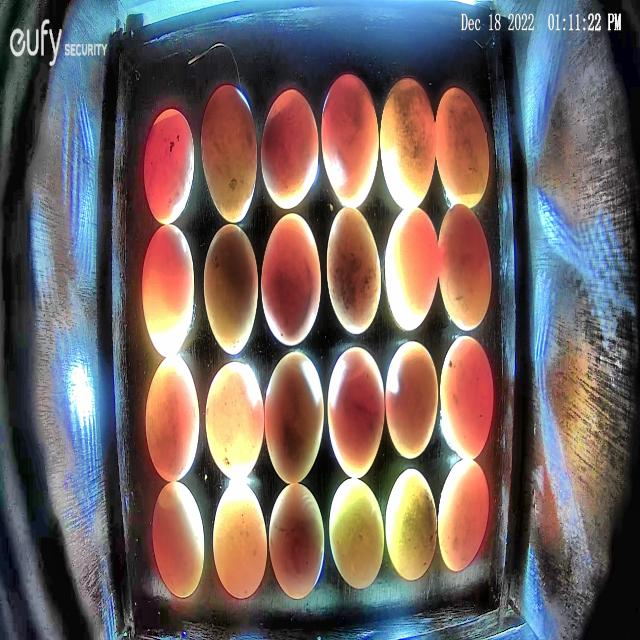DE: (261, 210, 321, 346), (200, 84, 258, 223), (320, 74, 380, 208), (264, 351, 324, 484), (326, 346, 384, 479), (380, 76, 436, 210), (141, 224, 195, 358), (325, 206, 381, 334), (204, 222, 258, 354), (438, 203, 493, 332), (205, 362, 264, 481), (261, 88, 318, 211), (145, 354, 199, 482), (269, 481, 325, 601), (436, 86, 490, 210), (440, 334, 493, 460), (386, 206, 438, 330), (212, 483, 267, 599), (385, 340, 438, 460), (329, 479, 385, 591), (152, 481, 205, 599), (143, 108, 195, 225), (385, 467, 437, 581), (438, 459, 490, 572)
